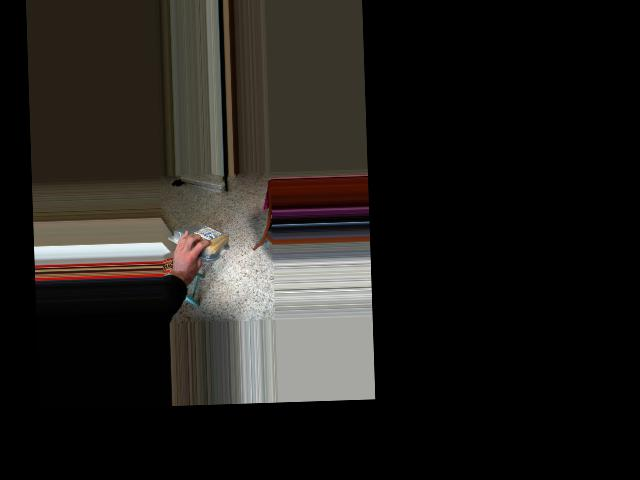cheese: (168, 224, 229, 256)
